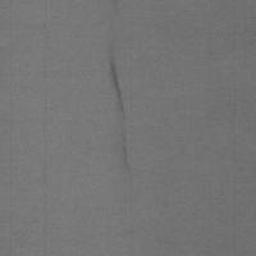Inclusion: (108, 54, 133, 173), (110, 0, 120, 6)
